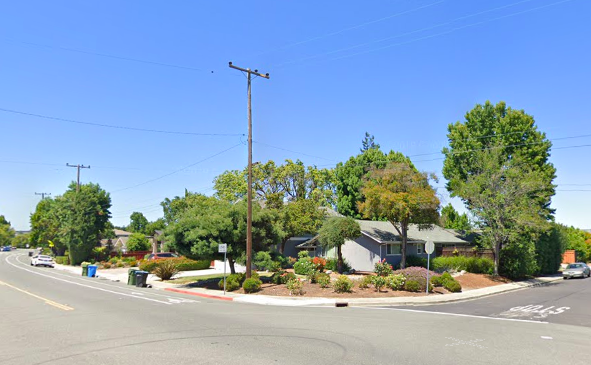tree: (441, 99, 557, 278), (356, 161, 441, 270), (29, 182, 113, 266)
utility_pole: (223, 54, 273, 107), (63, 156, 93, 180)
